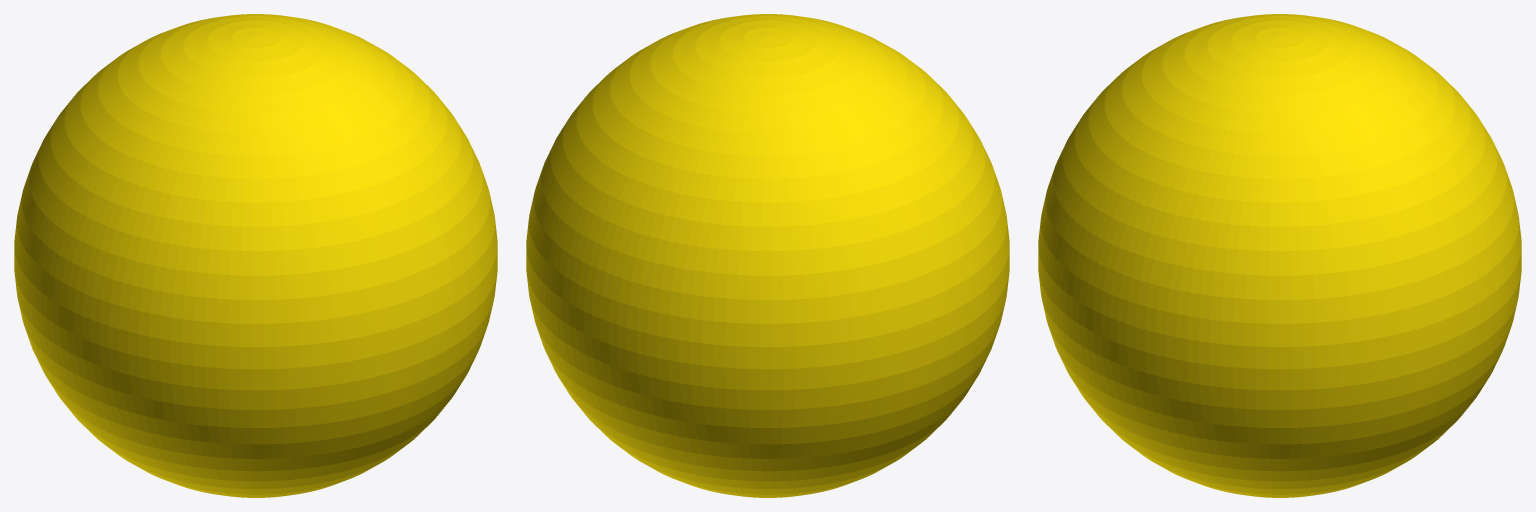
The model's file is ball_yellow.glb.
The picture shows the model from 3 angles, left to right: view 1: azimuth 30°, elevation 25°; view 2: azimuth 150°, elevation 25°; view 3: azimuth 270°, elevation 25°; orthographic projection.
Parts seen in each view (by area): view 1: geometry_0; view 2: geometry_0; view 3: geometry_0.
Boxes of the visible parts, x1,y1,x2,y2 form: geometry_0: [14, 14, 497, 497]; geometry_0: [526, 14, 1009, 497]; geometry_0: [1038, 14, 1521, 497].
Size of the model in its own units: 0.2197 by 0.22 by 0.2197.
